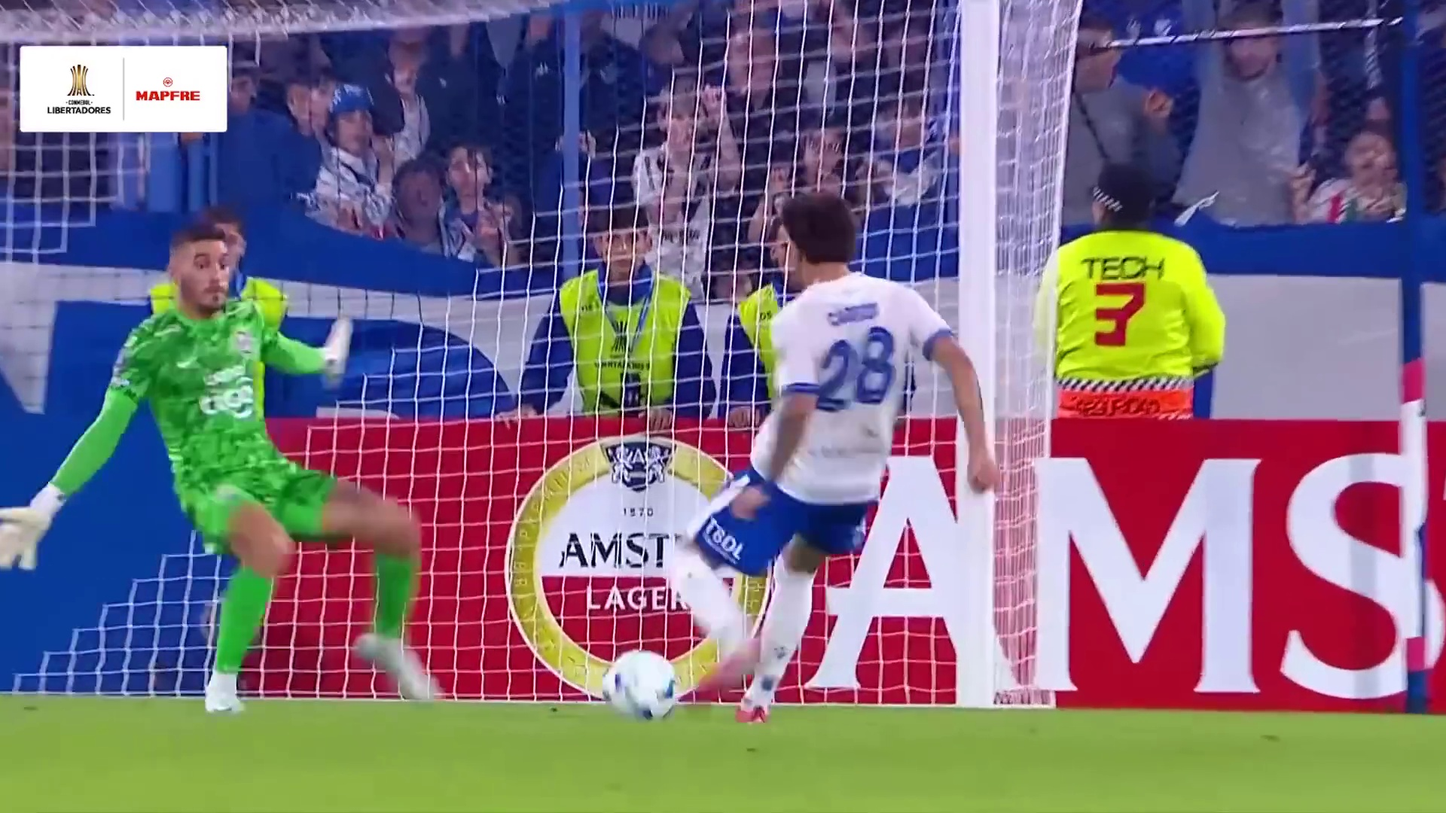ball: (599, 647, 681, 718)
player: (0, 217, 445, 717), (664, 189, 1000, 726)
